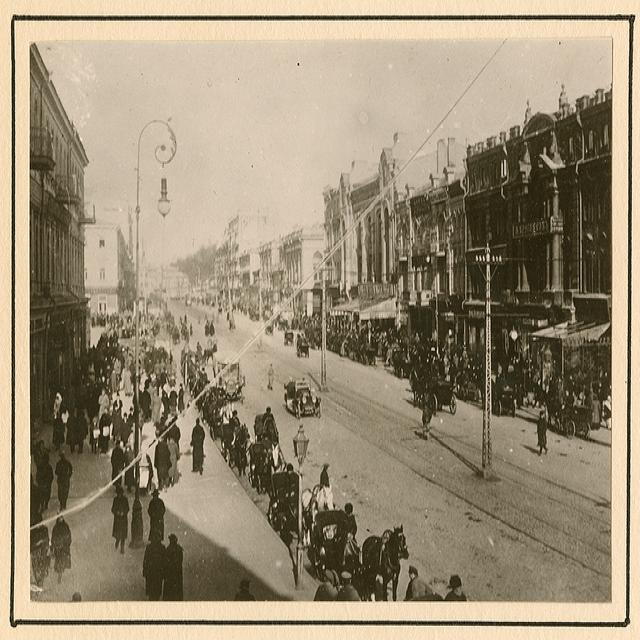Vehicle: (213, 350, 245, 400), (285, 379, 320, 420), (284, 331, 294, 346)
